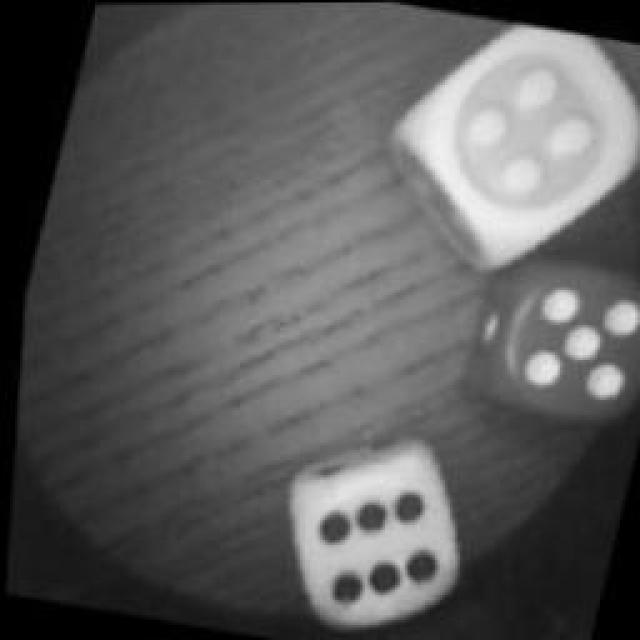dice_4: (365, 8, 640, 282)
dice_5: (450, 238, 640, 438)
dice_6: (248, 410, 492, 640)
